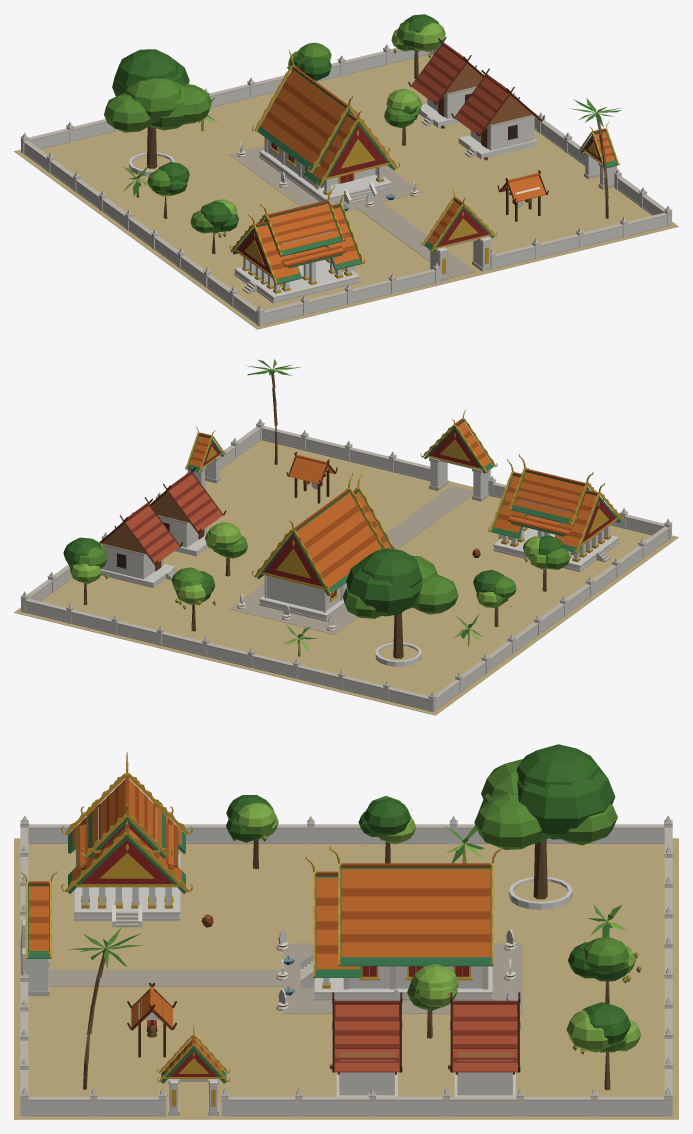
The model's file is temple_1.glb.
3 views of the same model, one above another, from view 1: azimuth 30°, elevation 25°; view 2: azimuth 150°, elevation 25°; view 3: azimuth 270°, elevation 25° (orthographic). The views are drawn at different scales.
Parts seen in each view (by area): view 1: body; view 2: body; view 3: body.
Boxes of the visible parts, <box> form: body: <box>14,14,678,329</box>; body: <box>14,359,678,715</box>; body: <box>14,744,678,1119</box>.
Size of the model in its own units: 47.9 by 12.13 by 47.9.
